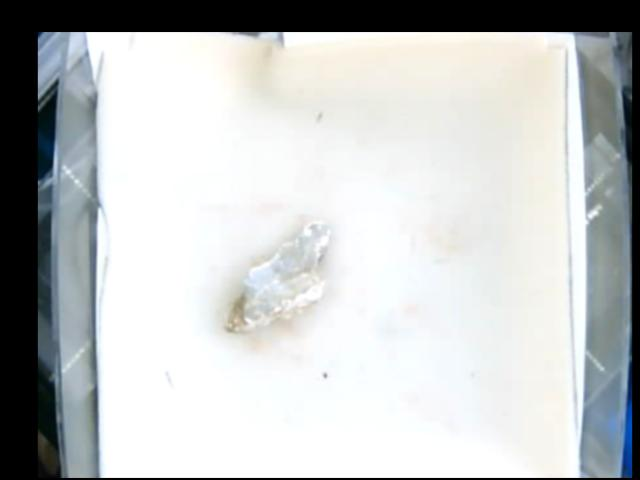Brisk: (226, 224, 328, 332)
